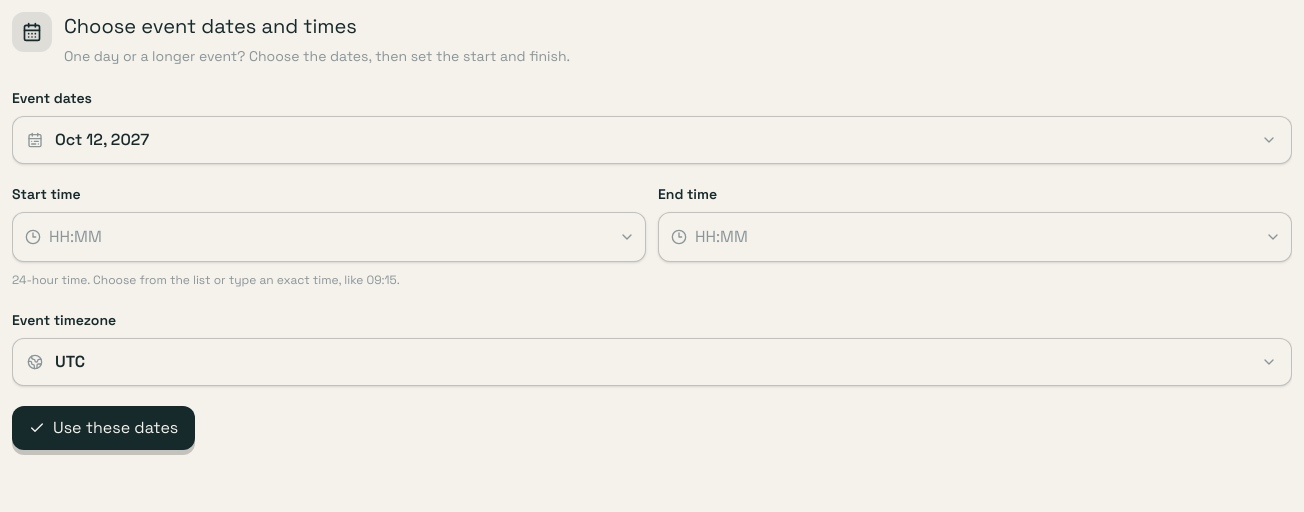
event date range conversion › prevents an end time before the start on a single day
Type "18:00" into the dropdown named "Start time" at (325,237), box x1=41 y1=213 x2=609 y2=261
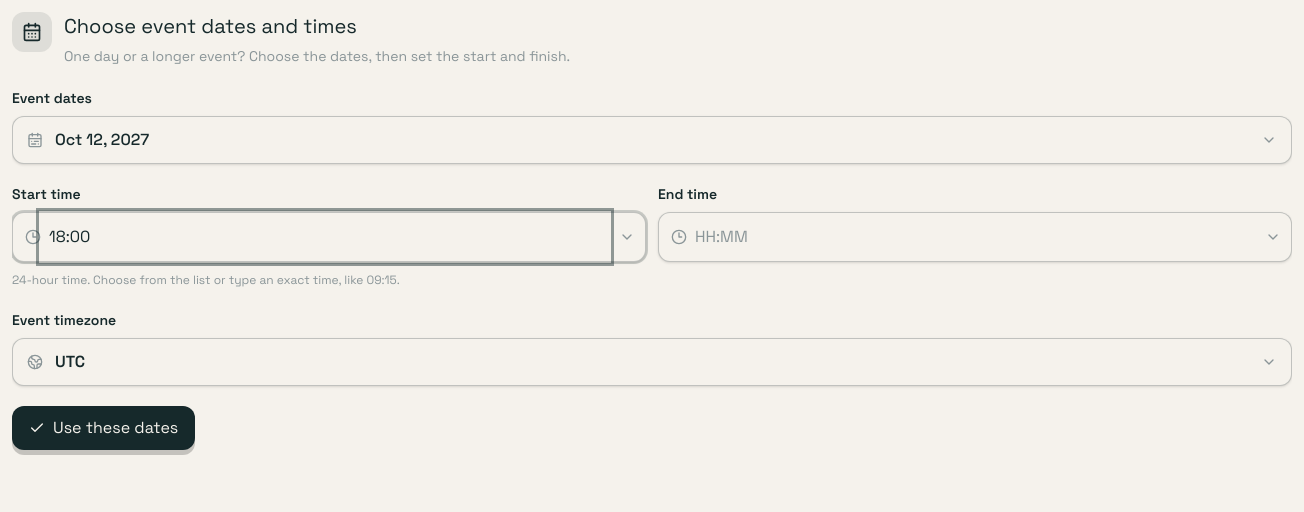
Type "09:00" into the dropdown named "End time" at (971,237), box x1=687 y1=213 x2=1255 y2=261
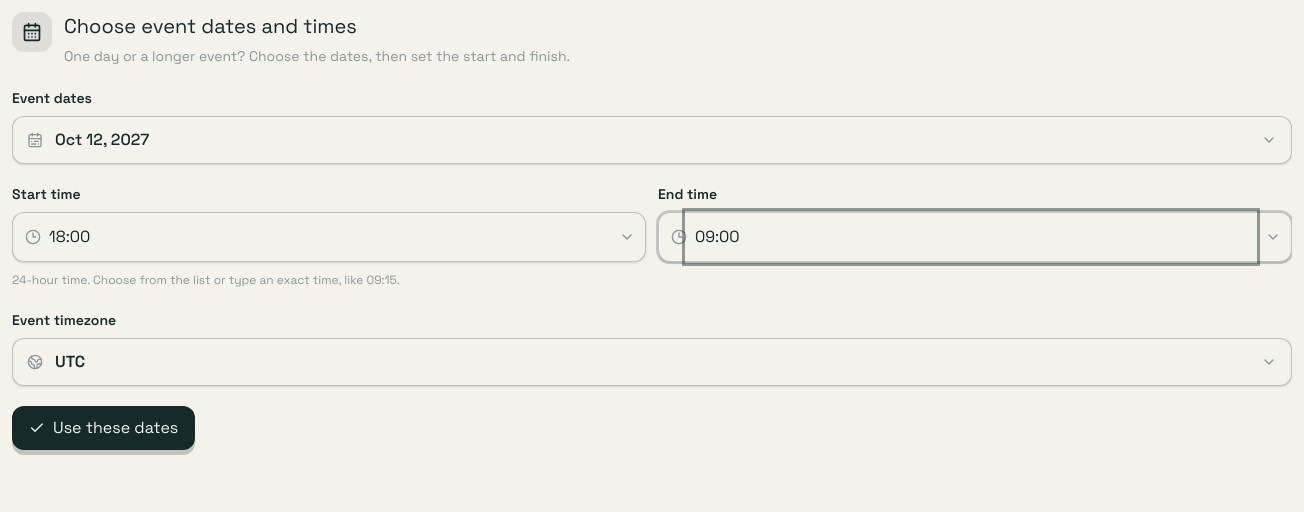
Click the button "Use these dates" at (104,428), box x1=12 y1=406 x2=195 y2=450
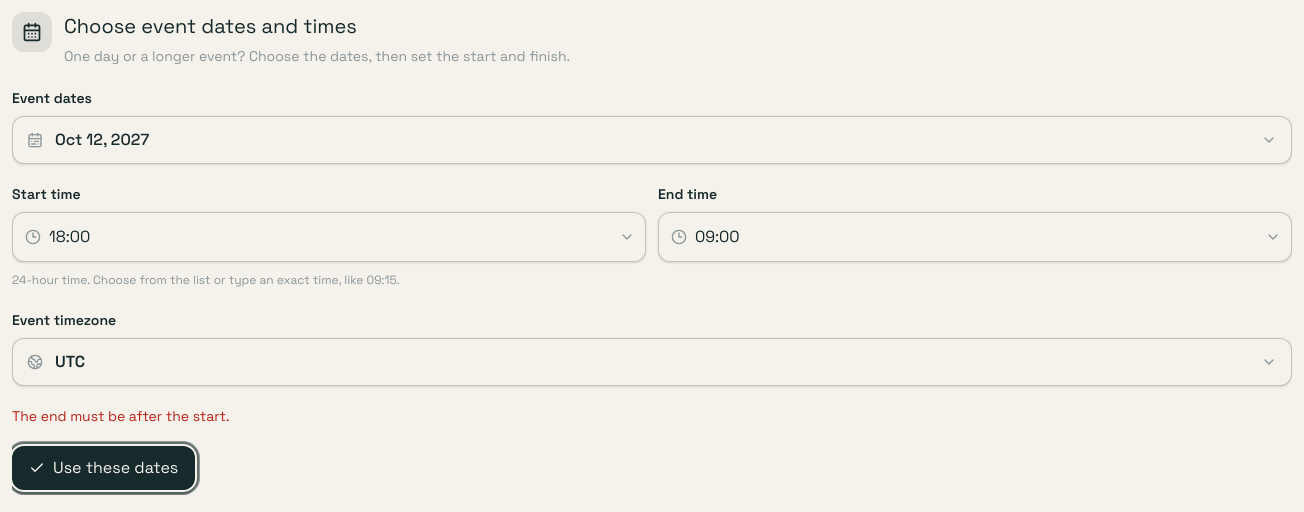
Now the message "The end must be after the start." is shown, box x1=12 y1=407 x2=230 y2=425
